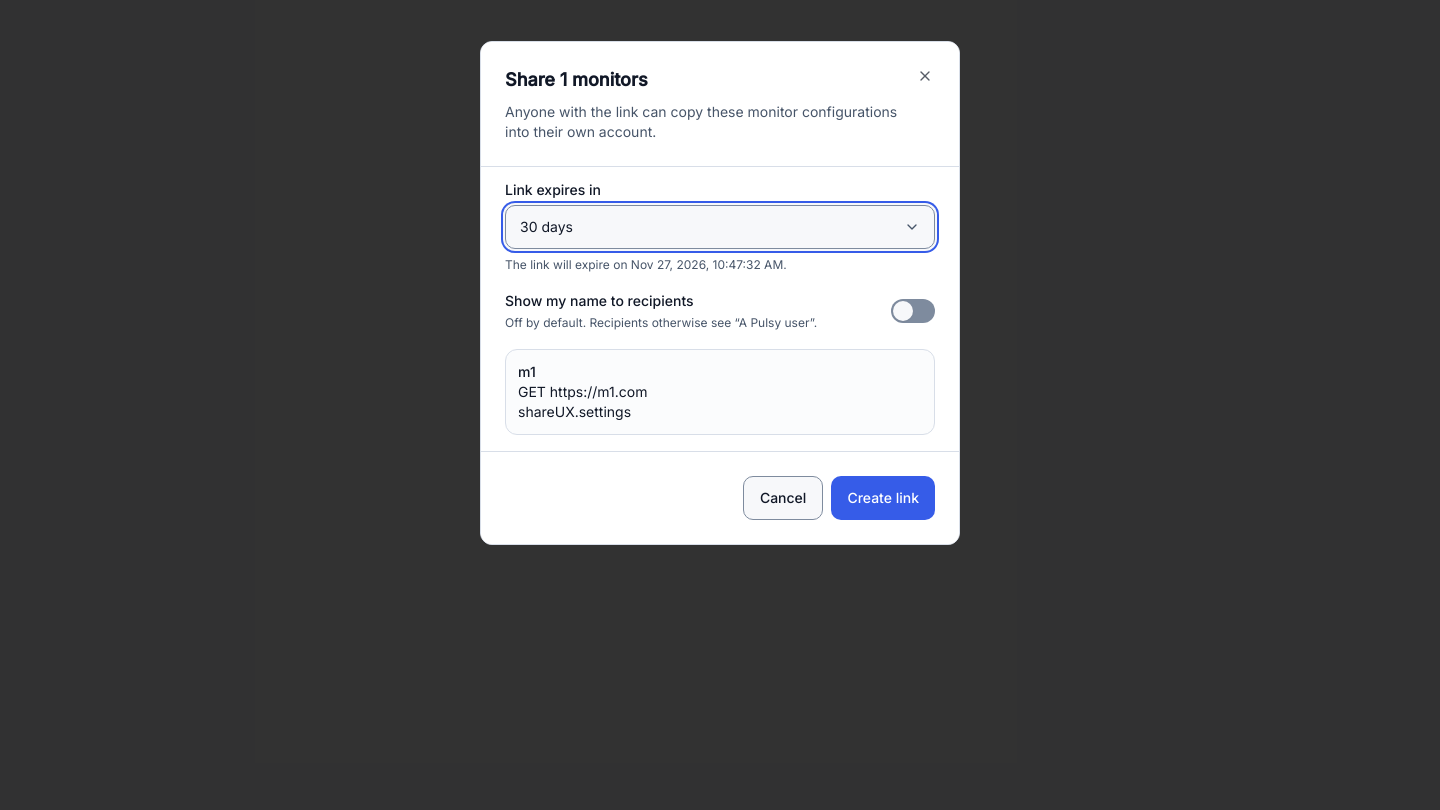
Scenario: ShareMonitorsDialog expiry choices › offers exactly 7, 30 and 90 days and never a 'Never' option
The width and height of the screenshot is (1440, 810).
Click the dropdown.
click(546, 226)  # box [505,204,935,248]
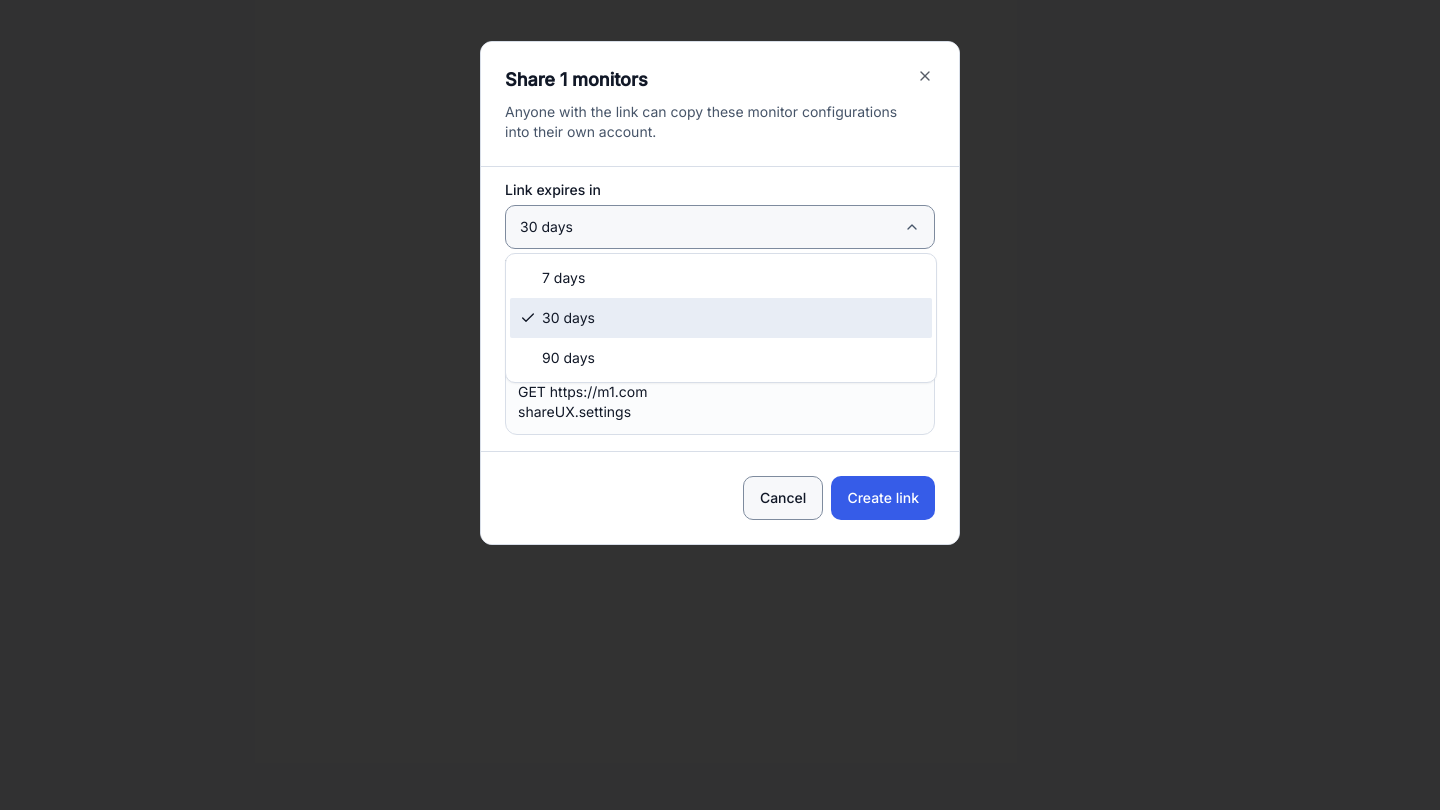
Now the options read "7 days", "30 days", "90 days", in this order, box [542,269,585,286]; [510,298,932,338]; [542,349,595,366]
